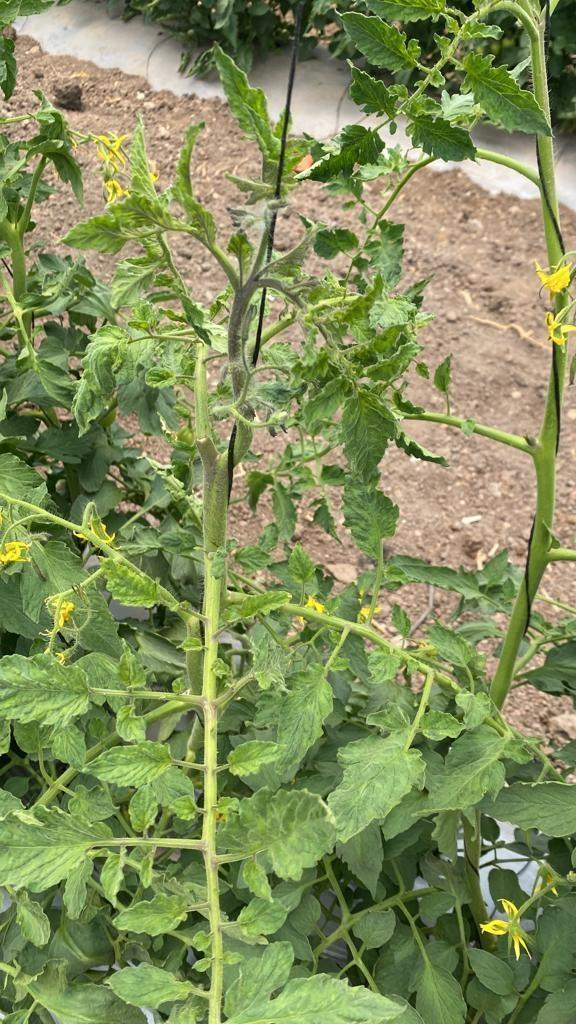Hoja: (416, 946, 466, 1024), (334, 820, 384, 895), (536, 906, 576, 992), (468, 948, 516, 995), (354, 910, 396, 949)
Hoja rugoso: (0, 540, 122, 657), (328, 728, 426, 841), (218, 788, 336, 880), (342, 390, 402, 561), (0, 804, 112, 891), (426, 724, 530, 810), (226, 974, 404, 1024), (462, 54, 550, 135), (276, 664, 332, 780), (0, 654, 88, 726), (72, 324, 130, 433), (224, 942, 294, 1017), (298, 124, 386, 181), (338, 12, 420, 71), (490, 782, 576, 838), (342, 480, 398, 561), (106, 964, 206, 1008), (84, 740, 172, 787), (428, 622, 484, 691), (406, 116, 476, 162), (112, 892, 186, 935), (100, 558, 158, 607), (250, 624, 290, 689), (62, 214, 128, 253), (350, 64, 398, 117), (222, 590, 292, 622), (228, 740, 284, 776), (16, 890, 50, 946), (68, 784, 118, 822), (238, 898, 288, 936), (52, 724, 86, 769), (128, 784, 158, 832), (420, 712, 464, 740), (368, 650, 402, 683)
Pedunculo: (471, 326, 560, 711), (198, 464, 226, 1023)
